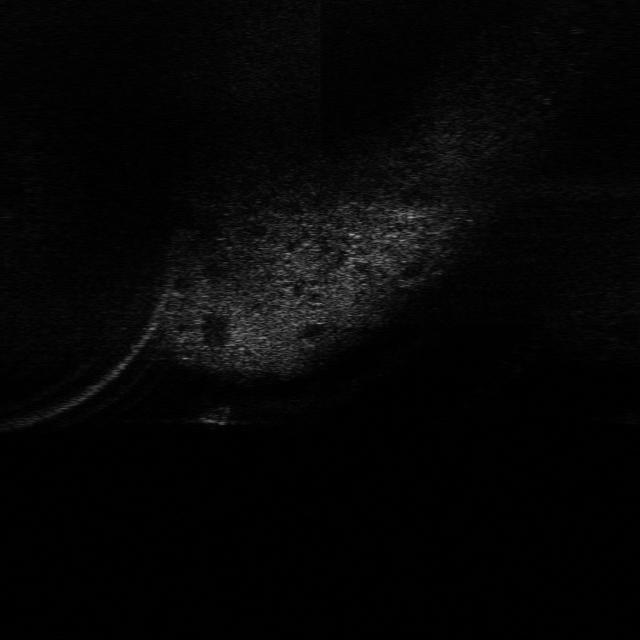cube: (193, 400, 238, 430)
